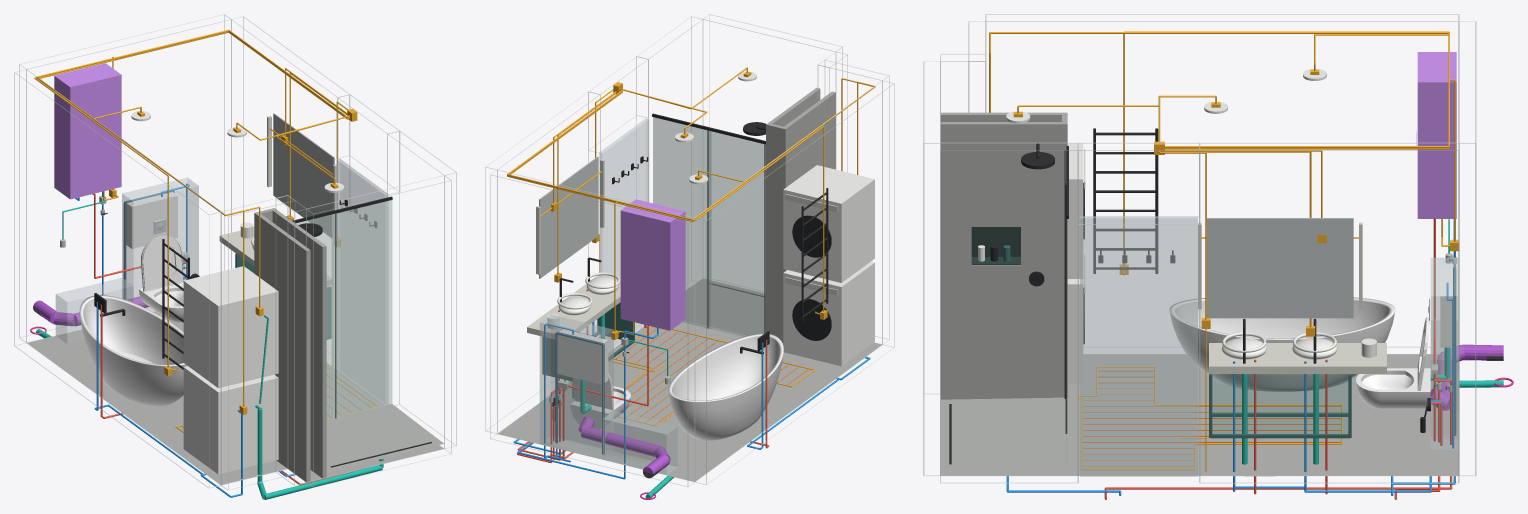
The model's file is option_10_default_layers.glb.
3 views of the same model, side by side, from view 1: azimuth 30°, elevation 25°; view 2: azimuth 150°, elevation 25°; view 3: azimuth 270°, elevation 25° (orthographic). The views are drawn at different scales.
Parts seen in each view (by area): view 1: Sliding glass leaf 2, shown open, Entrance door CLOSED reference — transparent frame, Dryer above washer, Box west tiled skin toward laundry, OPTIONAL compact tank envelope — capacity not selected, Island Bath study — bath_Circle (Scopia CC BY 3.0), Washer 60 × 60 — north-facing, Finished screed surface — depth unverified, no structural sl, WC frame and cistern — north wall, Shower floor — 2% to south linear channel, Full-width mirror above double vanity, Box east skin south of niche (+13 smaller); view 2: Finished screed surface — depth unverified, no structural sl, Shower moving glass — play frames 1–48, WC frame and cistern — north wall, Island Bath study — bath_Circle (Scopia CC BY 3.0), OPTIONAL compact tank envelope — capacity not selected, Sliding glass leaf 2, shown open, Dryer above washer, Washer 60 × 60 — north-facing, Entrance door CLOSED reference — transparent frame, Full-width mirror above double vanity, Box north tiled cap, Low north Ø110 enclosure — 40 cm high (+20 smaller); view 3: Finished screed surface — depth unverified, no structural sl, Entrance door CLOSED reference — transparent frame, Full-width mirror above double vanity, Box east skin north of niche, Shower floor — 2% to south linear channel, Box east skin south of niche, Island Bath study — bath_Circle (Scopia CC BY 3.0), Vanity transparent rear panel against east wall, Box east skin below niche, OPTIONAL compact tank envelope — capacity not selected, WC frame and cistern — north wall, Box east skin above niche (+21 smaller).
Part boxes in pixels (x1=…): Sliding glass leaf 2, shown open: x1=332, y1=200, x2=392, y2=418; Entrance door CLOSED reference — transparent frame: x1=336, y1=159, x2=388, y2=405; Dryer above washer: x1=183, y1=266, x2=278, y2=388; Box west tiled skin toward laundry: x1=256, y1=213, x2=310, y2=482; OPTIONAL compact tank envelope — capacity not selected: x1=54, y1=63, x2=121, y2=199; Island Bath study — bath_Circle (Scopia CC BY 3.0): x1=79, y1=295, x2=187, y2=406; Washer 60 × 60 — north-facing: x1=183, y1=366, x2=278, y2=474; Finished screed surface — depth unverified, no structural sl: x1=27, y1=311, x2=443, y2=484; WC frame and cistern — north wall: x1=122, y1=177, x2=198, y2=319; Shower floor — 2% to south linear channel: x1=326, y1=404, x2=443, y2=472; Full-width mirror above double vanity: x1=273, y1=113, x2=334, y2=238; Box east skin south of niche: x1=310, y1=237, x2=326, y2=478; Finished screed surface — depth unverified, no structural sl: x1=498, y1=321, x2=881, y2=481; Shower moving glass — play frames 1–48: x1=709, y1=131, x2=765, y2=336; WC frame and cistern — north wall: x1=539, y1=314, x2=613, y2=459; Island Bath study — bath_Circle (Scopia CC BY 3.0): x1=668, y1=333, x2=783, y2=440; OPTIONAL compact tank envelope — capacity not selected: x1=620, y1=199, x2=685, y2=330; Sliding glass leaf 2, shown open: x1=653, y1=117, x2=711, y2=329; Dryer above washer: x1=783, y1=165, x2=874, y2=282; Washer 60 × 60 — north-facing: x1=783, y1=261, x2=874, y2=366; Entrance door CLOSED reference — transparent frame: x1=599, y1=118, x2=649, y2=351; Full-width mirror above double vanity: x1=539, y1=156, x2=598, y2=278; Box north tiled cap: x1=766, y1=123, x2=787, y2=344; Low north Ø110 enclosure — 40 cm high: x1=602, y1=411, x2=677, y2=474; Finished screed surface — depth unverified, no structural sl: x1=941, y1=354, x2=1458, y2=475; Entrance door CLOSED reference — transparent frame: x1=1080, y1=216, x2=1197, y2=476; Full-width mirror above double vanity: x1=1207, y1=218, x2=1353, y2=318; Box east skin north of niche: x1=1021, y1=122, x2=1061, y2=398; Shower floor — 2% to south linear channel: x1=941, y1=397, x2=1067, y2=469; Box east skin south of niche: x1=940, y1=122, x2=971, y2=399; Island Bath study — bath_Circle (Scopia CC BY 3.0): x1=1169, y1=297, x2=1395, y2=391; Vanity transparent rear panel against east wall: x1=1212, y1=375, x2=1348, y2=434; Box east skin below niche: x1=971, y1=265, x2=1020, y2=398; OPTIONAL compact tank envelope — capacity not selected: x1=1417, y1=52, x2=1456, y2=218; WC frame and cistern — north wall: x1=1430, y1=257, x2=1458, y2=449; Box east skin above niche: x1=971, y1=122, x2=1020, y2=226.
Bounding box in the file's own units: 2.28 × 2.79 × 4.18.
